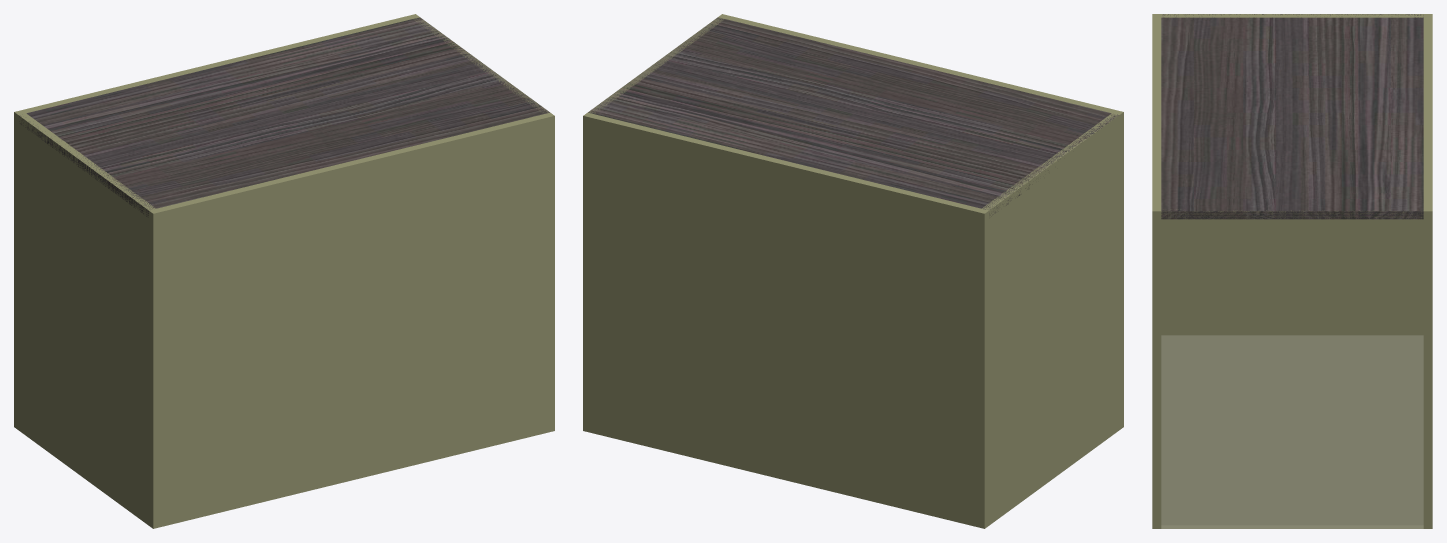
File: TestGltf-texture.ok.dae
3 views of the same model, side by side, from view 1: azimuth 30°, elevation 25°; view 2: azimuth 150°, elevation 25°; view 3: azimuth 270°, elevation 25° (orthographic).
Parts seen in each view (by area): view 1: {70C1E8CD-E74A-494a-9025-0A03DD4690AD}_Node, {E7BD0DC2-1854-41da-BF09-E3ED5DFC0A0B}_Node, {2028B74D-77DA-4b20-AE34-D12B52AD1D1F}_Node, {6F95F5B2-136F-4cae-8EE5-4628AF8A5ECD}_Node, {BB24EB8B-BD88-42c6-96C0-F69DB1C54A34}_Node; view 2: {6F95F5B2-136F-4cae-8EE5-4628AF8A5ECD}_Node, {E7BD0DC2-1854-41da-BF09-E3ED5DFC0A0B}_Node, {2028B74D-77DA-4b20-AE34-D12B52AD1D1F}_Node, {BB24EB8B-BD88-42c6-96C0-F69DB1C54A34}_Node, {70C1E8CD-E74A-494a-9025-0A03DD4690AD}_Node; view 3: {BB24EB8B-BD88-42c6-96C0-F69DB1C54A34}_Node, {E7BD0DC2-1854-41da-BF09-E3ED5DFC0A0B}_Node, {2028B74D-77DA-4b20-AE34-D12B52AD1D1F}_Node, {70C1E8CD-E74A-494a-9025-0A03DD4690AD}_Node, {6F95F5B2-136F-4cae-8EE5-4628AF8A5ECD}_Node.
Part boxes in pixels (<box>): {70C1E8CD-E74A-494a-9025-0A03DD4690AD}_Node: <box>149,112,554,528</box>; {E7BD0DC2-1854-41da-BF09-E3ED5DFC0A0B}_Node: <box>19,17,549,217</box>; {2028B74D-77DA-4b20-AE34-D12B52AD1D1F}_Node: <box>14,110,160,528</box>; {6F95F5B2-136F-4cae-8EE5-4628AF8A5ECD}_Node: <box>14,14,419,429</box>; {BB24EB8B-BD88-42c6-96C0-F69DB1C54A34}_Node: <box>411,14,554,432</box>; {6F95F5B2-136F-4cae-8EE5-4628AF8A5ECD}_Node: <box>583,112,988,528</box>; {E7BD0DC2-1854-41da-BF09-E3ED5DFC0A0B}_Node: <box>588,17,1118,216</box>; {2028B74D-77DA-4b20-AE34-D12B52AD1D1F}_Node: <box>977,110,1123,527</box>; {BB24EB8B-BD88-42c6-96C0-F69DB1C54A34}_Node: <box>583,14,726,432</box>; {70C1E8CD-E74A-494a-9025-0A03DD4690AD}_Node: <box>718,14,1123,427</box>; {BB24EB8B-BD88-42c6-96C0-F69DB1C54A34}_Node: <box>1152,209,1432,528</box>; {E7BD0DC2-1854-41da-BF09-E3ED5DFC0A0B}_Node: <box>1161,14,1423,219</box>; {2028B74D-77DA-4b20-AE34-D12B52AD1D1F}_Node: <box>1152,14,1432,334</box>; {70C1E8CD-E74A-494a-9025-0A03DD4690AD}_Node: <box>1152,14,1161,528</box>; {6F95F5B2-136F-4cae-8EE5-4628AF8A5ECD}_Node: <box>1423,14,1432,528</box>.
Bounding box in the file's own units: 1 × 0.75 × 0.6.
Materials: 4 (1 with a texture image).
